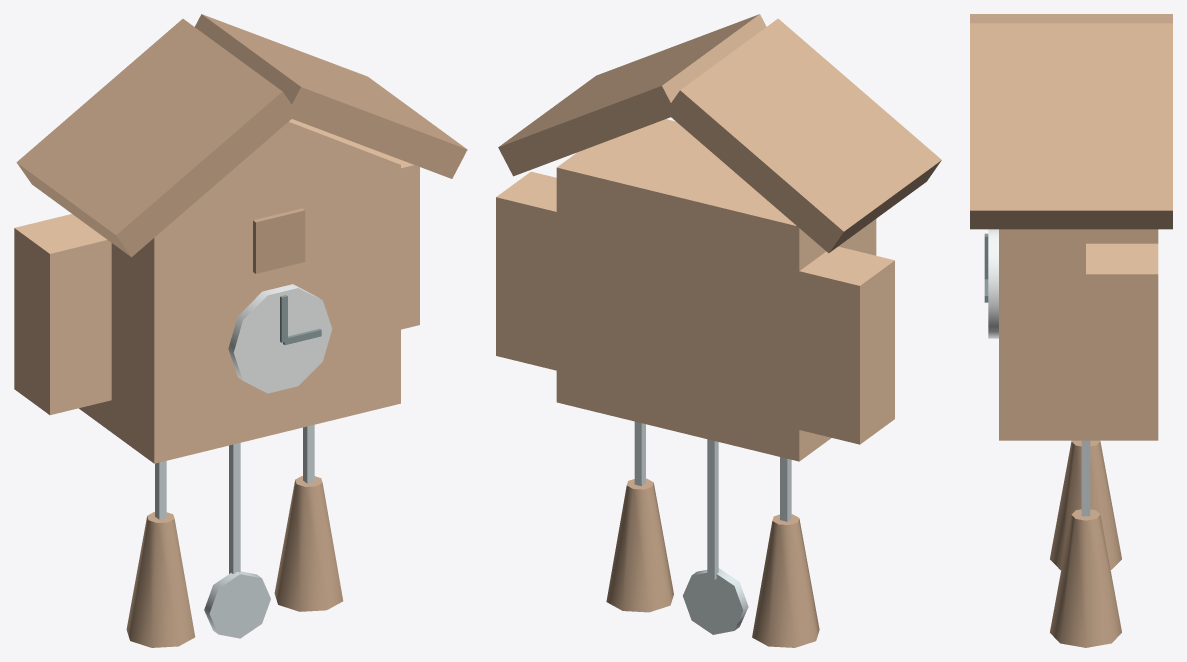
File: clockCuckoo.glb
The picture shows the model from 3 angles, left to right: view 1: azimuth 30°, elevation 25°; view 2: azimuth 150°, elevation 25°; view 3: azimuth 270°, elevation 25°; orthographic projection. The views are drawn at different scales.
Visible parts, largest first — view 1: clockCuckoo; view 2: clockCuckoo; view 3: clockCuckoo.
Part boxes in pixels (bbox=[...]): clockCuckoo: bbox=[14, 14, 467, 647]; clockCuckoo: bbox=[496, 14, 941, 647]; clockCuckoo: bbox=[970, 14, 1172, 647].
Size of the model in its own units: 0.3 by 0.455 by 0.14.
